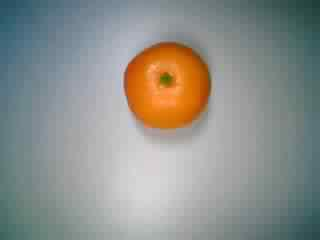orange: (116, 33, 211, 135)
